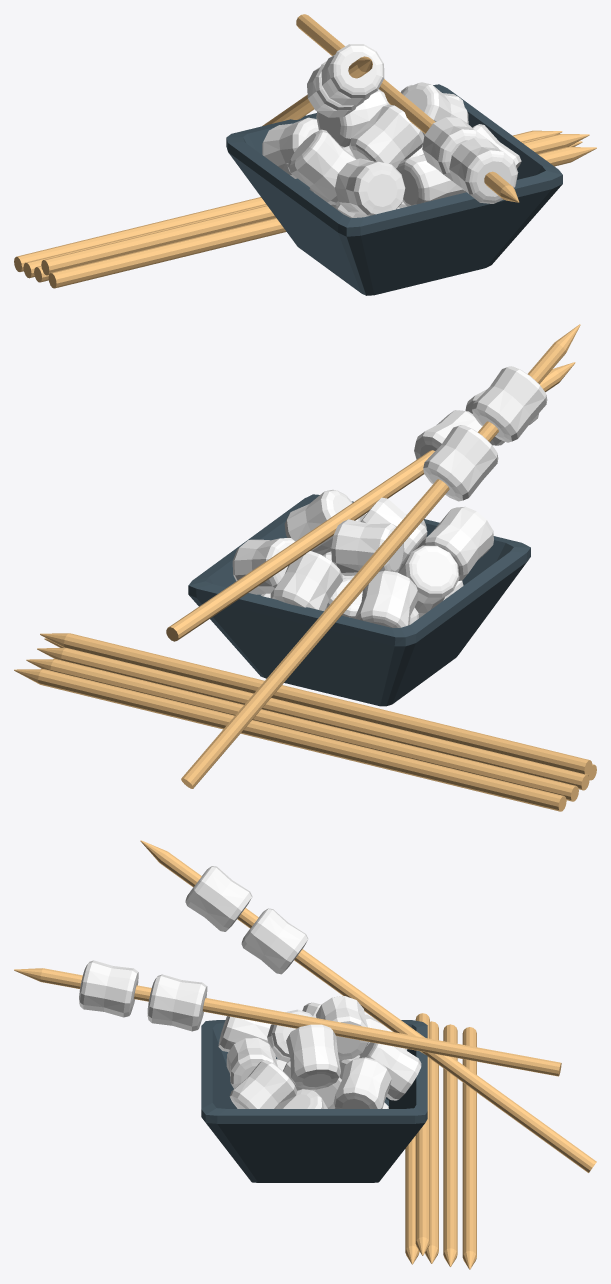
Rendered from Marshmallows by Jarlan Perez - 1KaEvyPT4BG.glb.
3 renders of one model, top to bottom at view 1: azimuth 30°, elevation 25°; view 2: azimuth 150°, elevation 25°; view 3: azimuth 270°, elevation 25°, orthographic. The views are drawn at different scales.
Parts seen in each view (by area): view 1: Node; view 2: Node; view 3: Node.
Boxes of the visible parts, x1,y1,x2,y2 form: Node: (14,14,596,295); Node: (14,324,596,811); Node: (14,840,596,1269).
Size of the model in its own units: 2.51 by 1.35 by 2.6.
